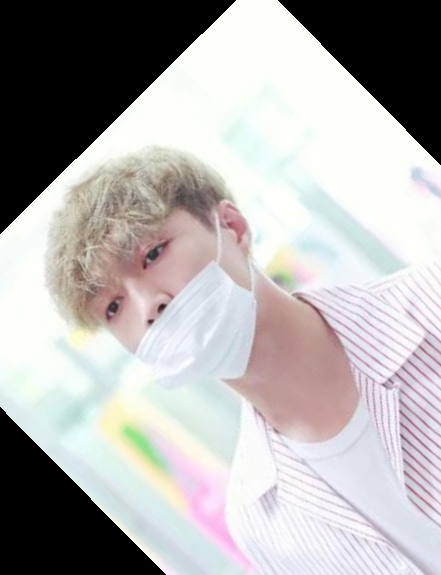mask_weared_incorrect: (30, 145, 288, 410)
